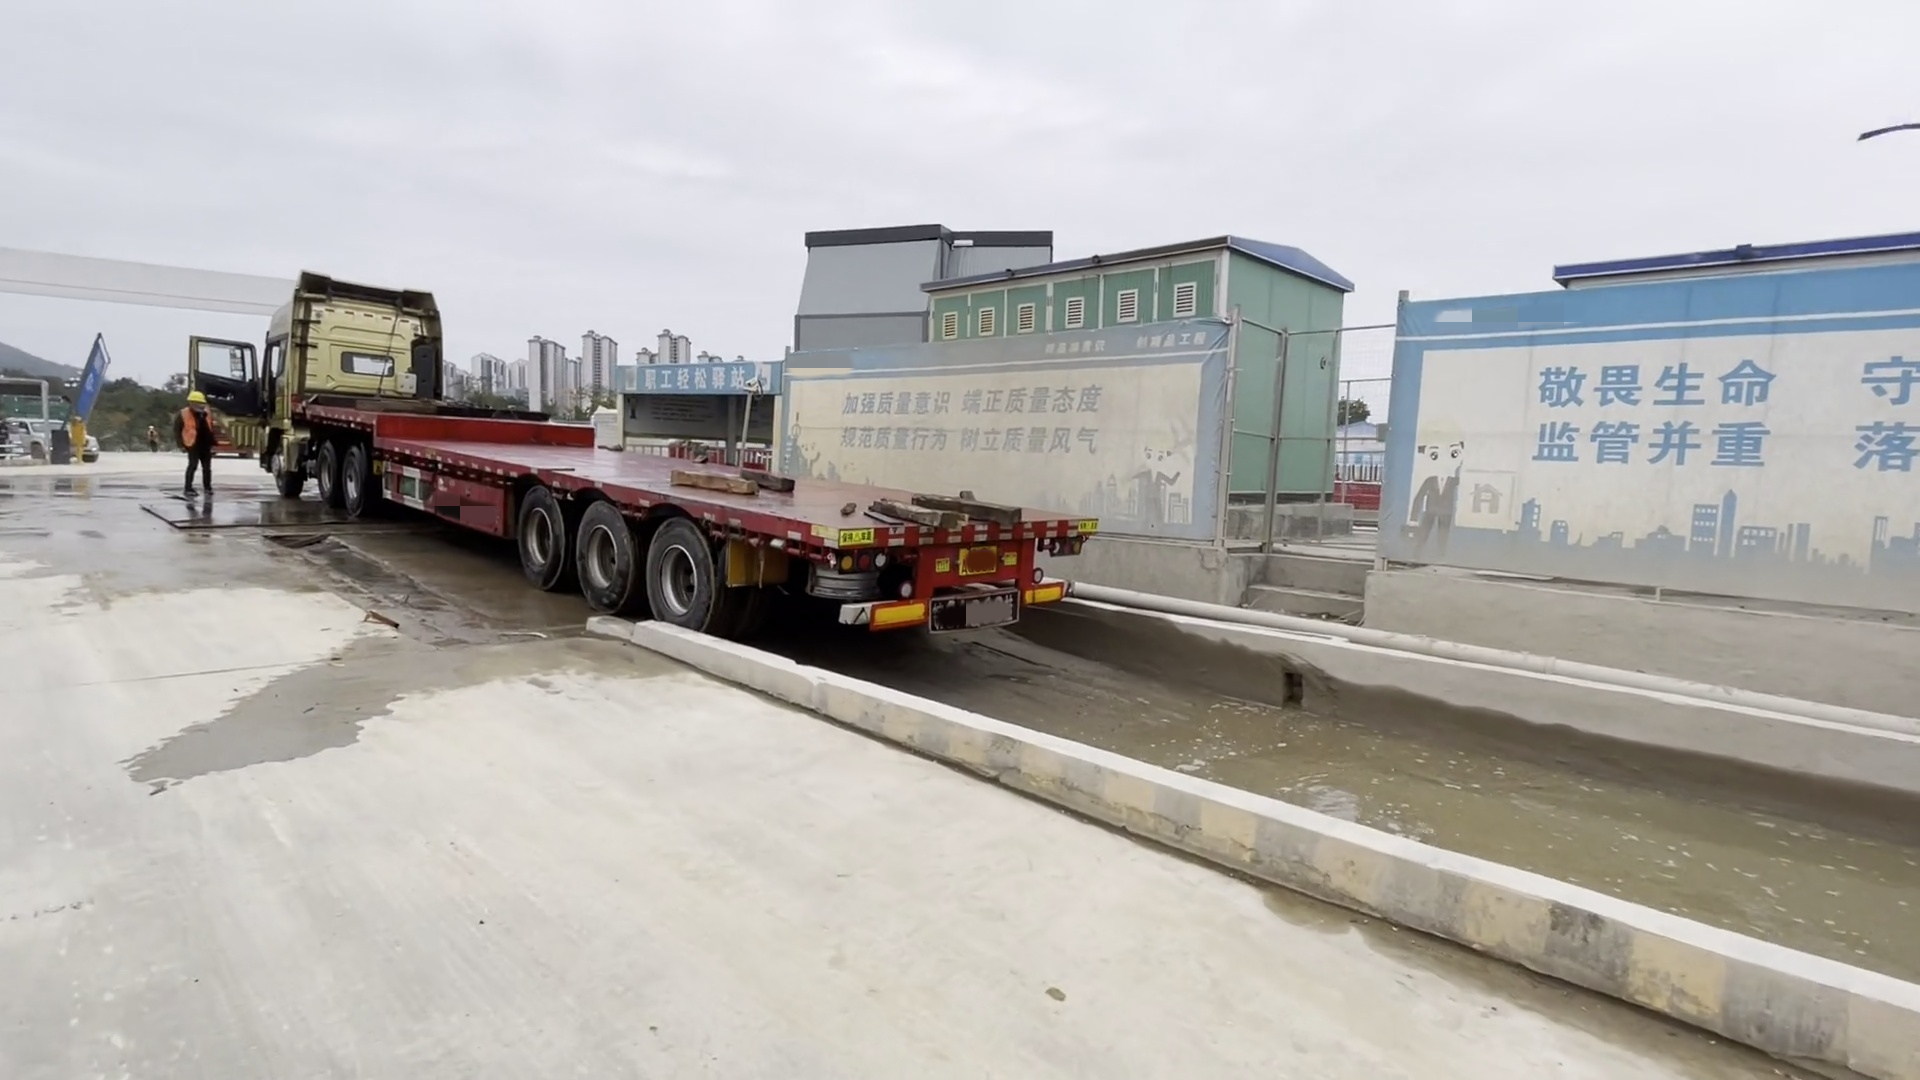helmet: (186, 391, 205, 403)
person: (173, 391, 229, 519), (144, 420, 166, 457)
slogan: (1515, 327, 1914, 537), (830, 374, 1136, 476), (1041, 330, 1218, 357)
vest: (180, 407, 215, 450), (147, 432, 159, 444)
